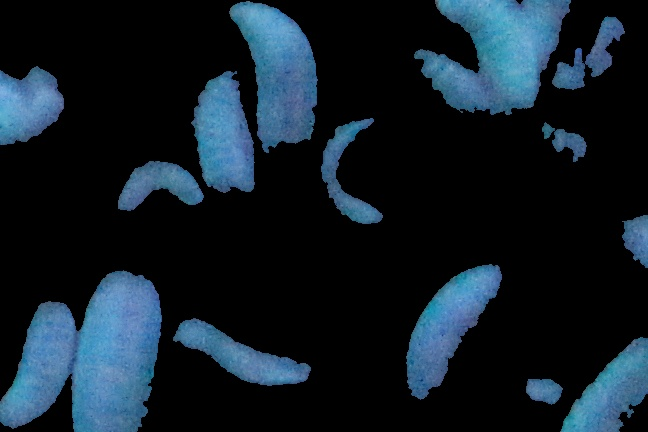larvae: (219, 1, 334, 188), (70, 262, 164, 432), (393, 264, 503, 408), (167, 307, 320, 394), (300, 104, 400, 230), (562, 301, 647, 432), (449, 1, 540, 110), (1, 294, 74, 429), (195, 65, 259, 194), (111, 160, 210, 220)
